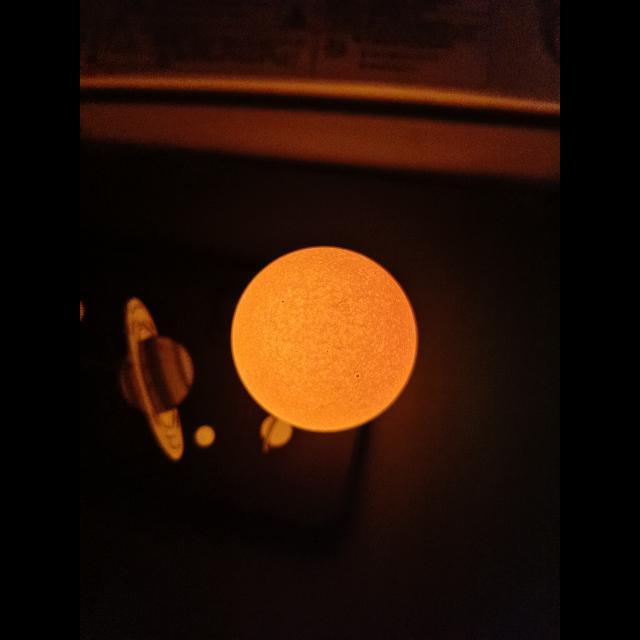AA - Premium: (231, 246, 418, 431), (346, 318, 348, 319)
